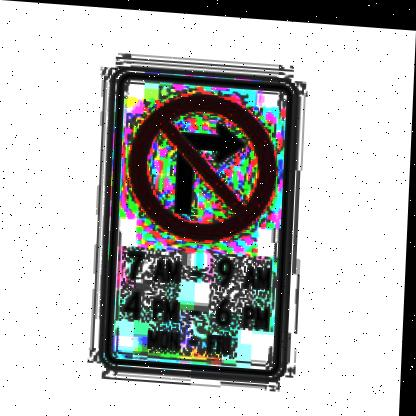No right turn: (113, 77, 281, 239)
